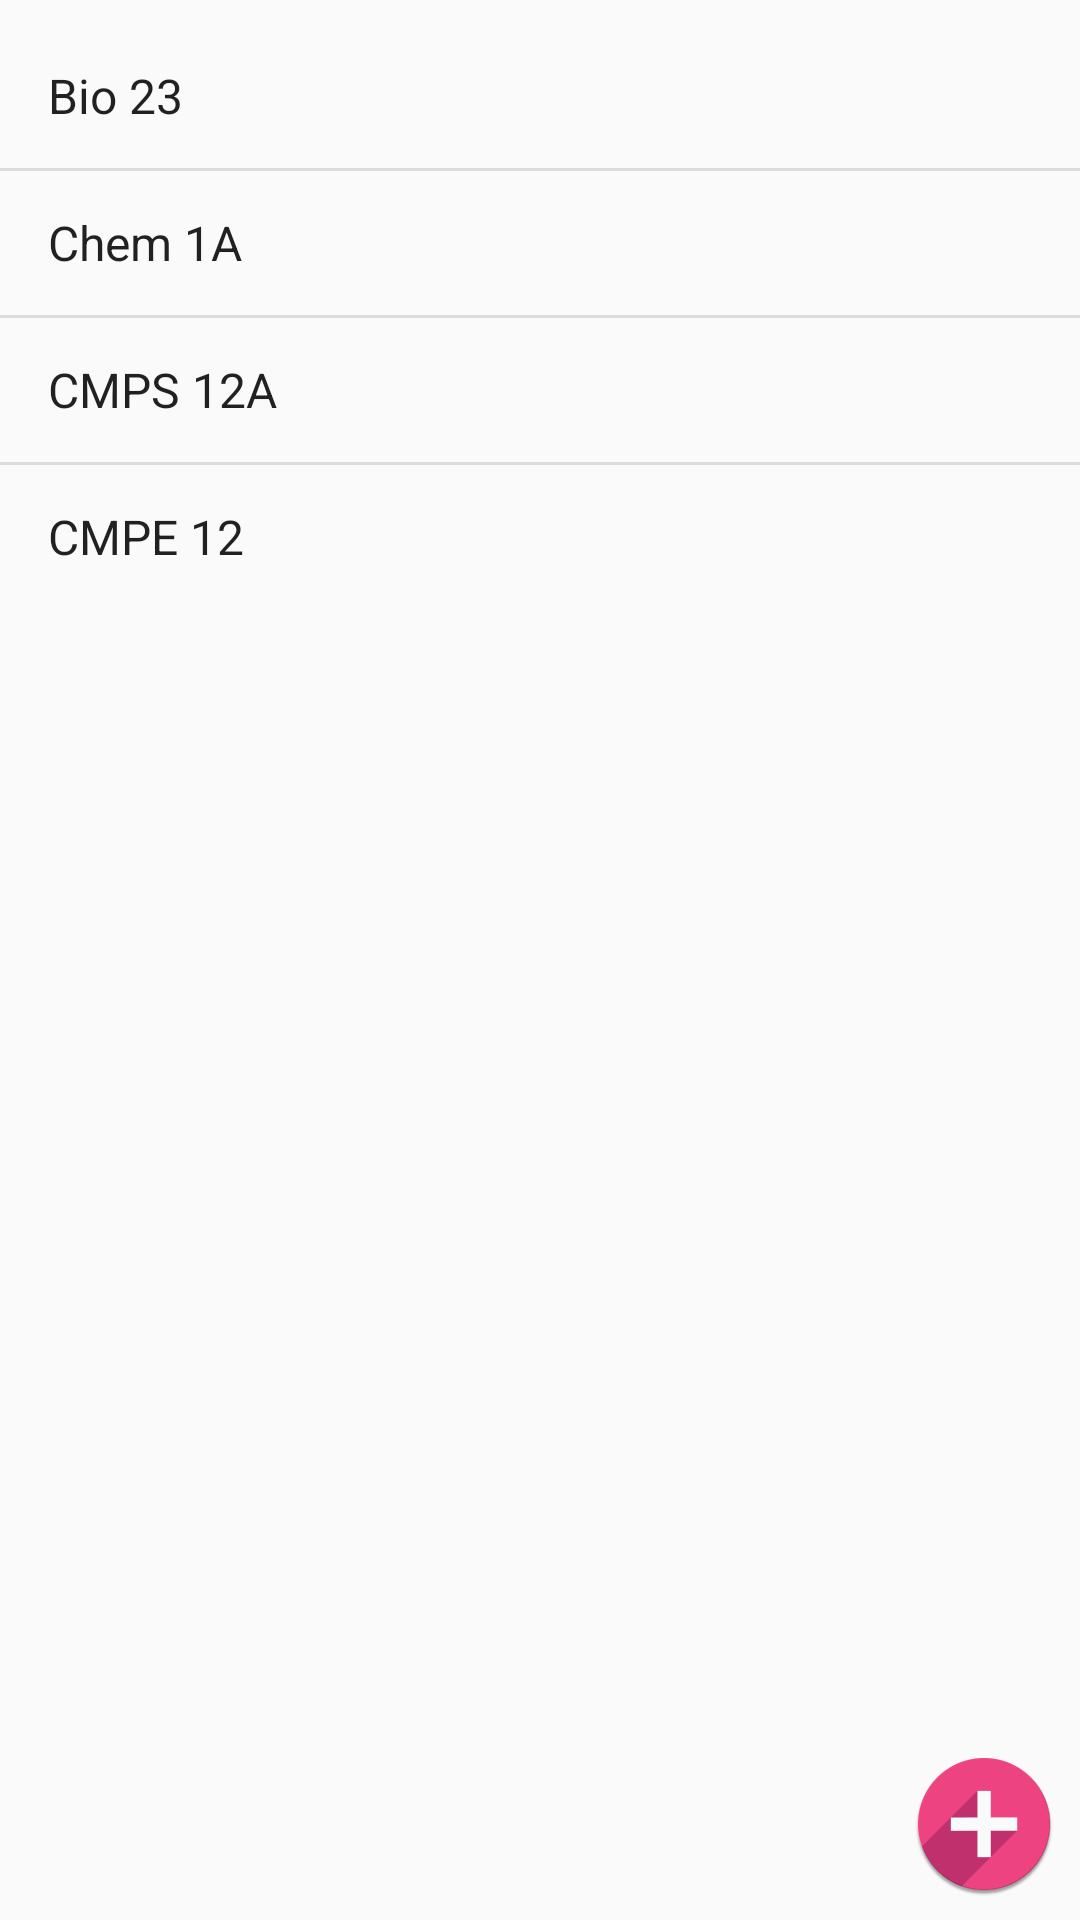

Where to tap for icons on this 1080 × 1920 app screen, as [x,y]:
addbutton: [984,1826]
